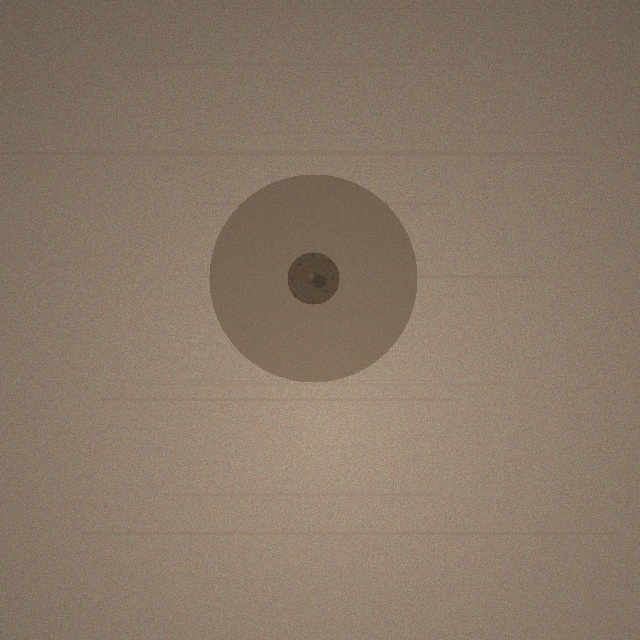cold_weld: (209, 174, 417, 382)
